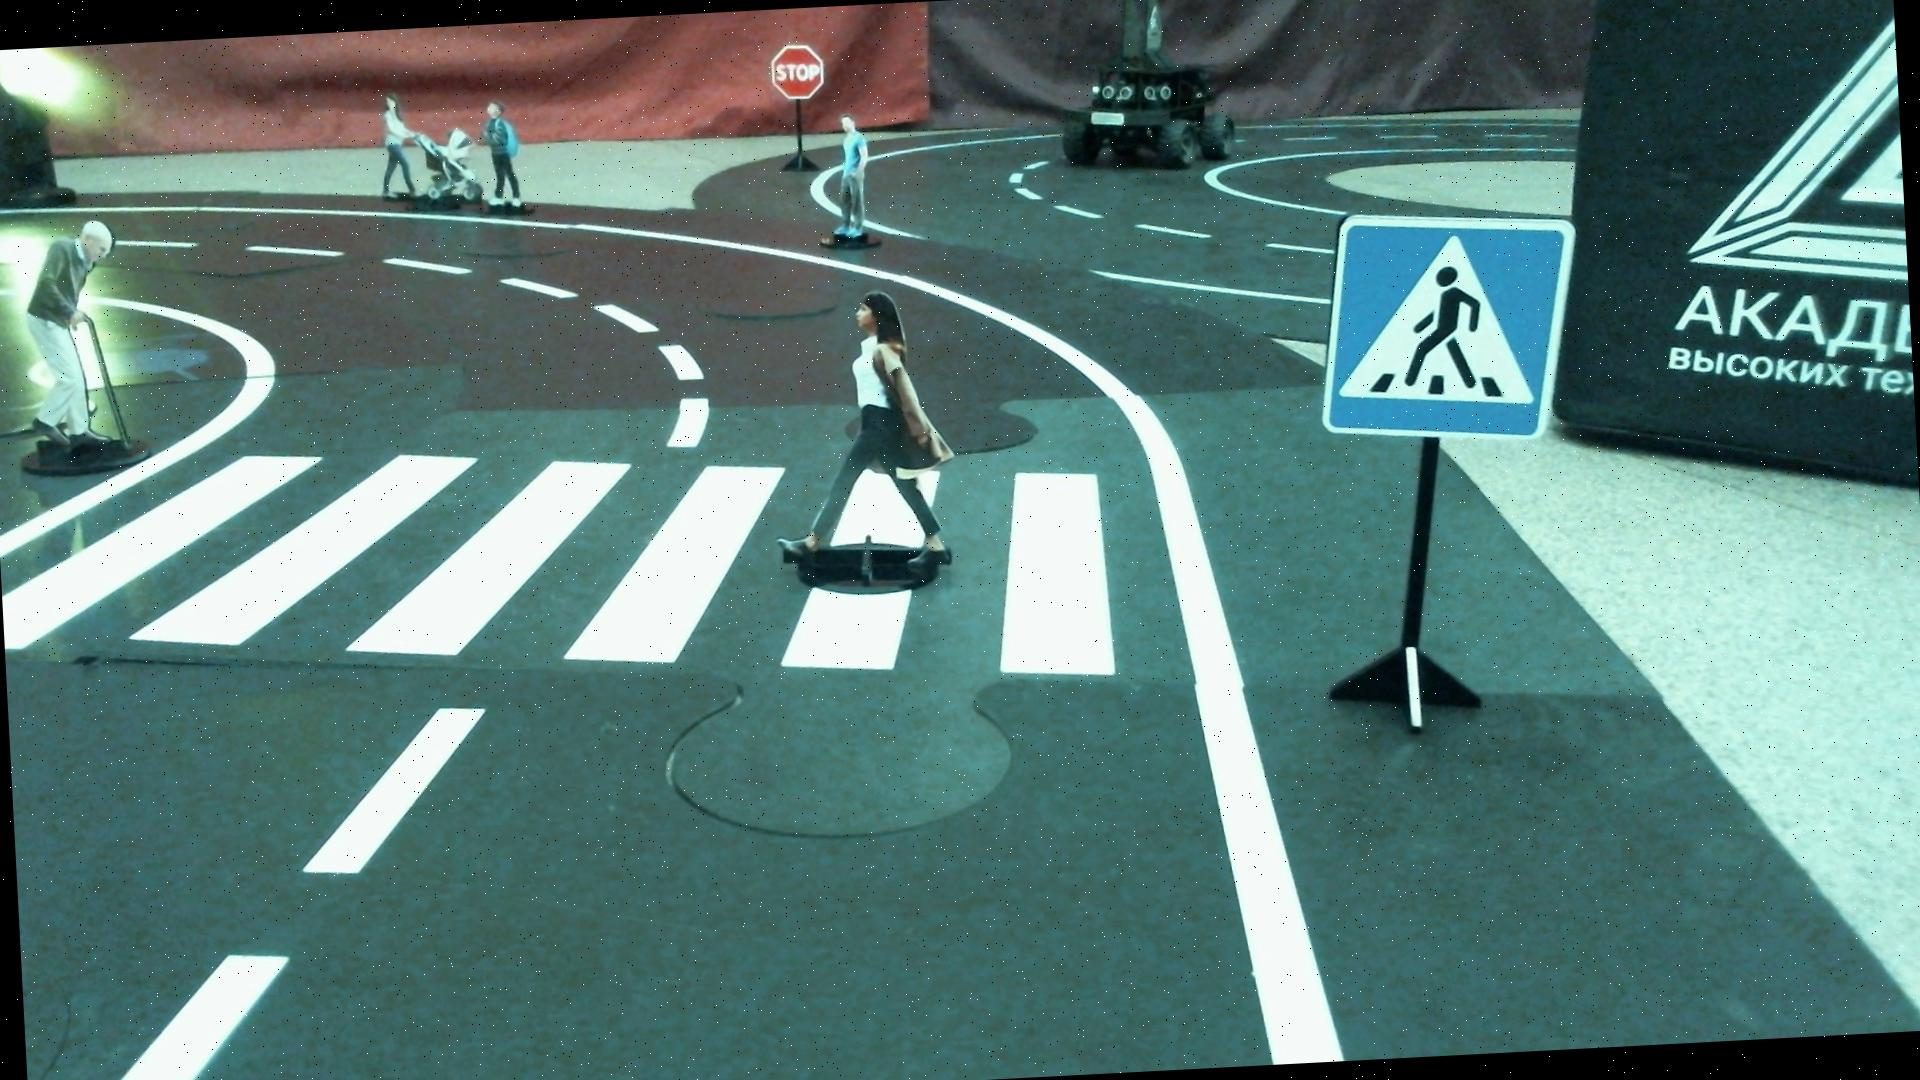crossing: (0, 388, 1193, 748)
person: (755, 282, 964, 593), (8, 210, 152, 470), (374, 82, 486, 216), (816, 103, 882, 254), (472, 92, 530, 212)
